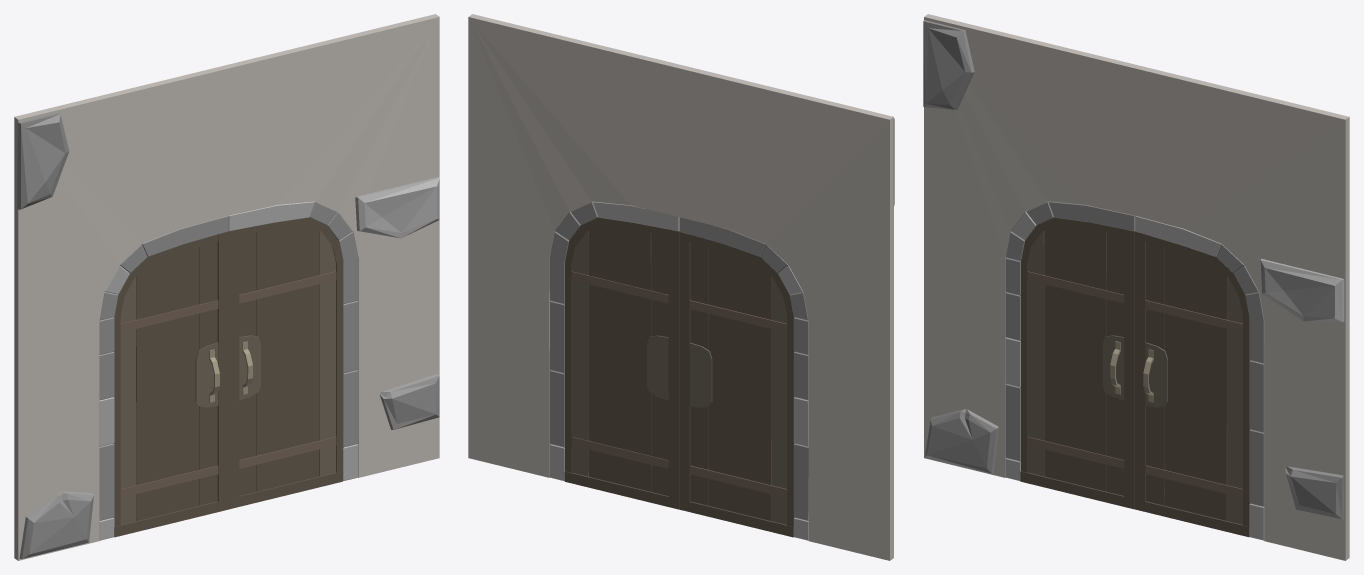
File: _DOOR_01_1.fbx
The picture shows the model from 3 angles, left to right: view 1: azimuth 30°, elevation 25°; view 2: azimuth 150°, elevation 25°; view 3: azimuth 330°, elevation 25°; orthographic projection.
Visible parts, largest first — view 1: DOOR_01_1; view 2: DOOR_01_1; view 3: DOOR_01_1.
Boxes of the visible parts, left/top/right/bottom form: DOOR_01_1: left=14, top=14, right=439, bottom=560; DOOR_01_1: left=468, top=14, right=894, bottom=560; DOOR_01_1: left=923, top=14, right=1349, bottom=560.
Size of the model in its own units: 300 by 300 by 11.92.
